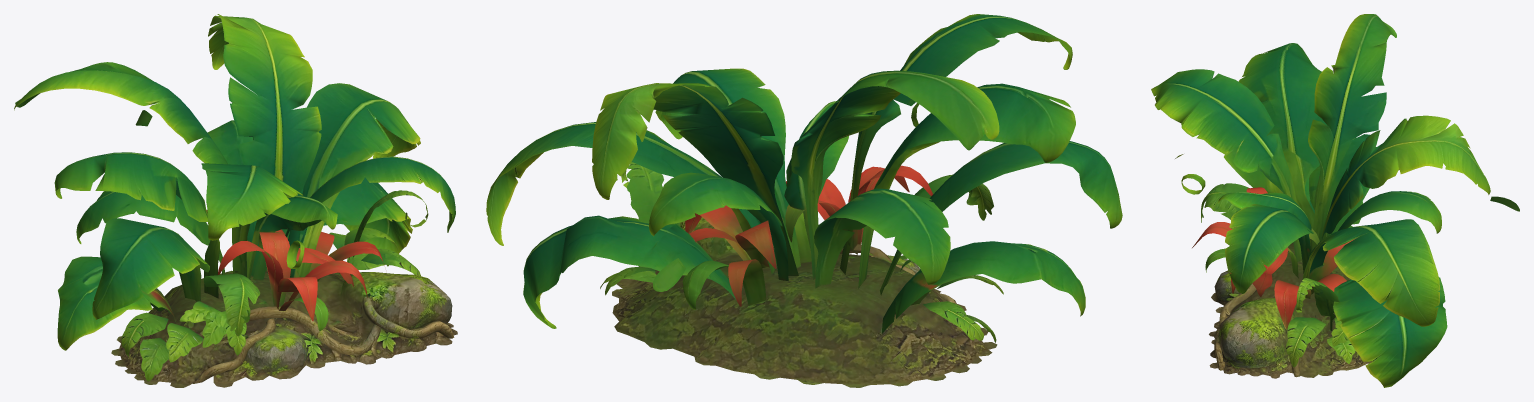
The model's file is rooted-tropical-cluster.glb.
3 renders of one model, left to right at view 1: azimuth 30°, elevation 25°; view 2: azimuth 150°, elevation 25°; view 3: azimuth 270°, elevation 25°, orthographic. The views are drawn at different scales.
Visible parts, largest first — view 1: tripo_node_01ef02a2-a8a5-41c5-a67f-427dc52aacbb; view 2: tripo_node_01ef02a2-a8a5-41c5-a67f-427dc52aacbb; view 3: tripo_node_01ef02a2-a8a5-41c5-a67f-427dc52aacbb.
Boxes of the visible parts, box(x1,y1,x2,y2) form: tripo_node_01ef02a2-a8a5-41c5-a67f-427dc52aacbb: box(14, 14, 457, 387); tripo_node_01ef02a2-a8a5-41c5-a67f-427dc52aacbb: box(486, 14, 1122, 387); tripo_node_01ef02a2-a8a5-41c5-a67f-427dc52aacbb: box(1151, 14, 1519, 387).
Size of the model in its own units: 0.9995 by 0.6353 by 0.9009.
Materials: 1 (1 with a texture image).
